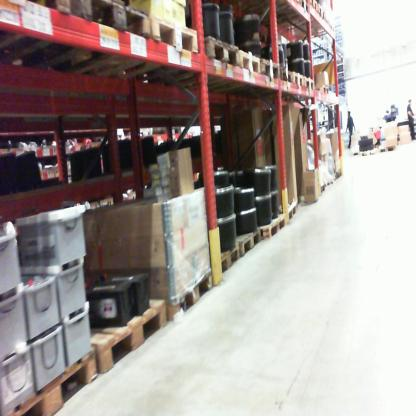pallet: (3, 1, 151, 93), (105, 12, 203, 106), (81, 300, 170, 377), (2, 347, 101, 416), (4, 0, 91, 68), (160, 266, 214, 329), (198, 49, 262, 95), (192, 37, 242, 77), (248, 1, 309, 27), (229, 230, 264, 266), (294, 4, 328, 36), (252, 56, 280, 90), (255, 214, 286, 244), (214, 243, 240, 276), (309, 16, 338, 39), (279, 200, 301, 225), (298, 74, 316, 100), (352, 144, 380, 159), (286, 71, 307, 91), (275, 64, 290, 90), (314, 81, 331, 99), (377, 144, 399, 157), (304, 1, 319, 16), (331, 167, 344, 182), (318, 182, 328, 195)
